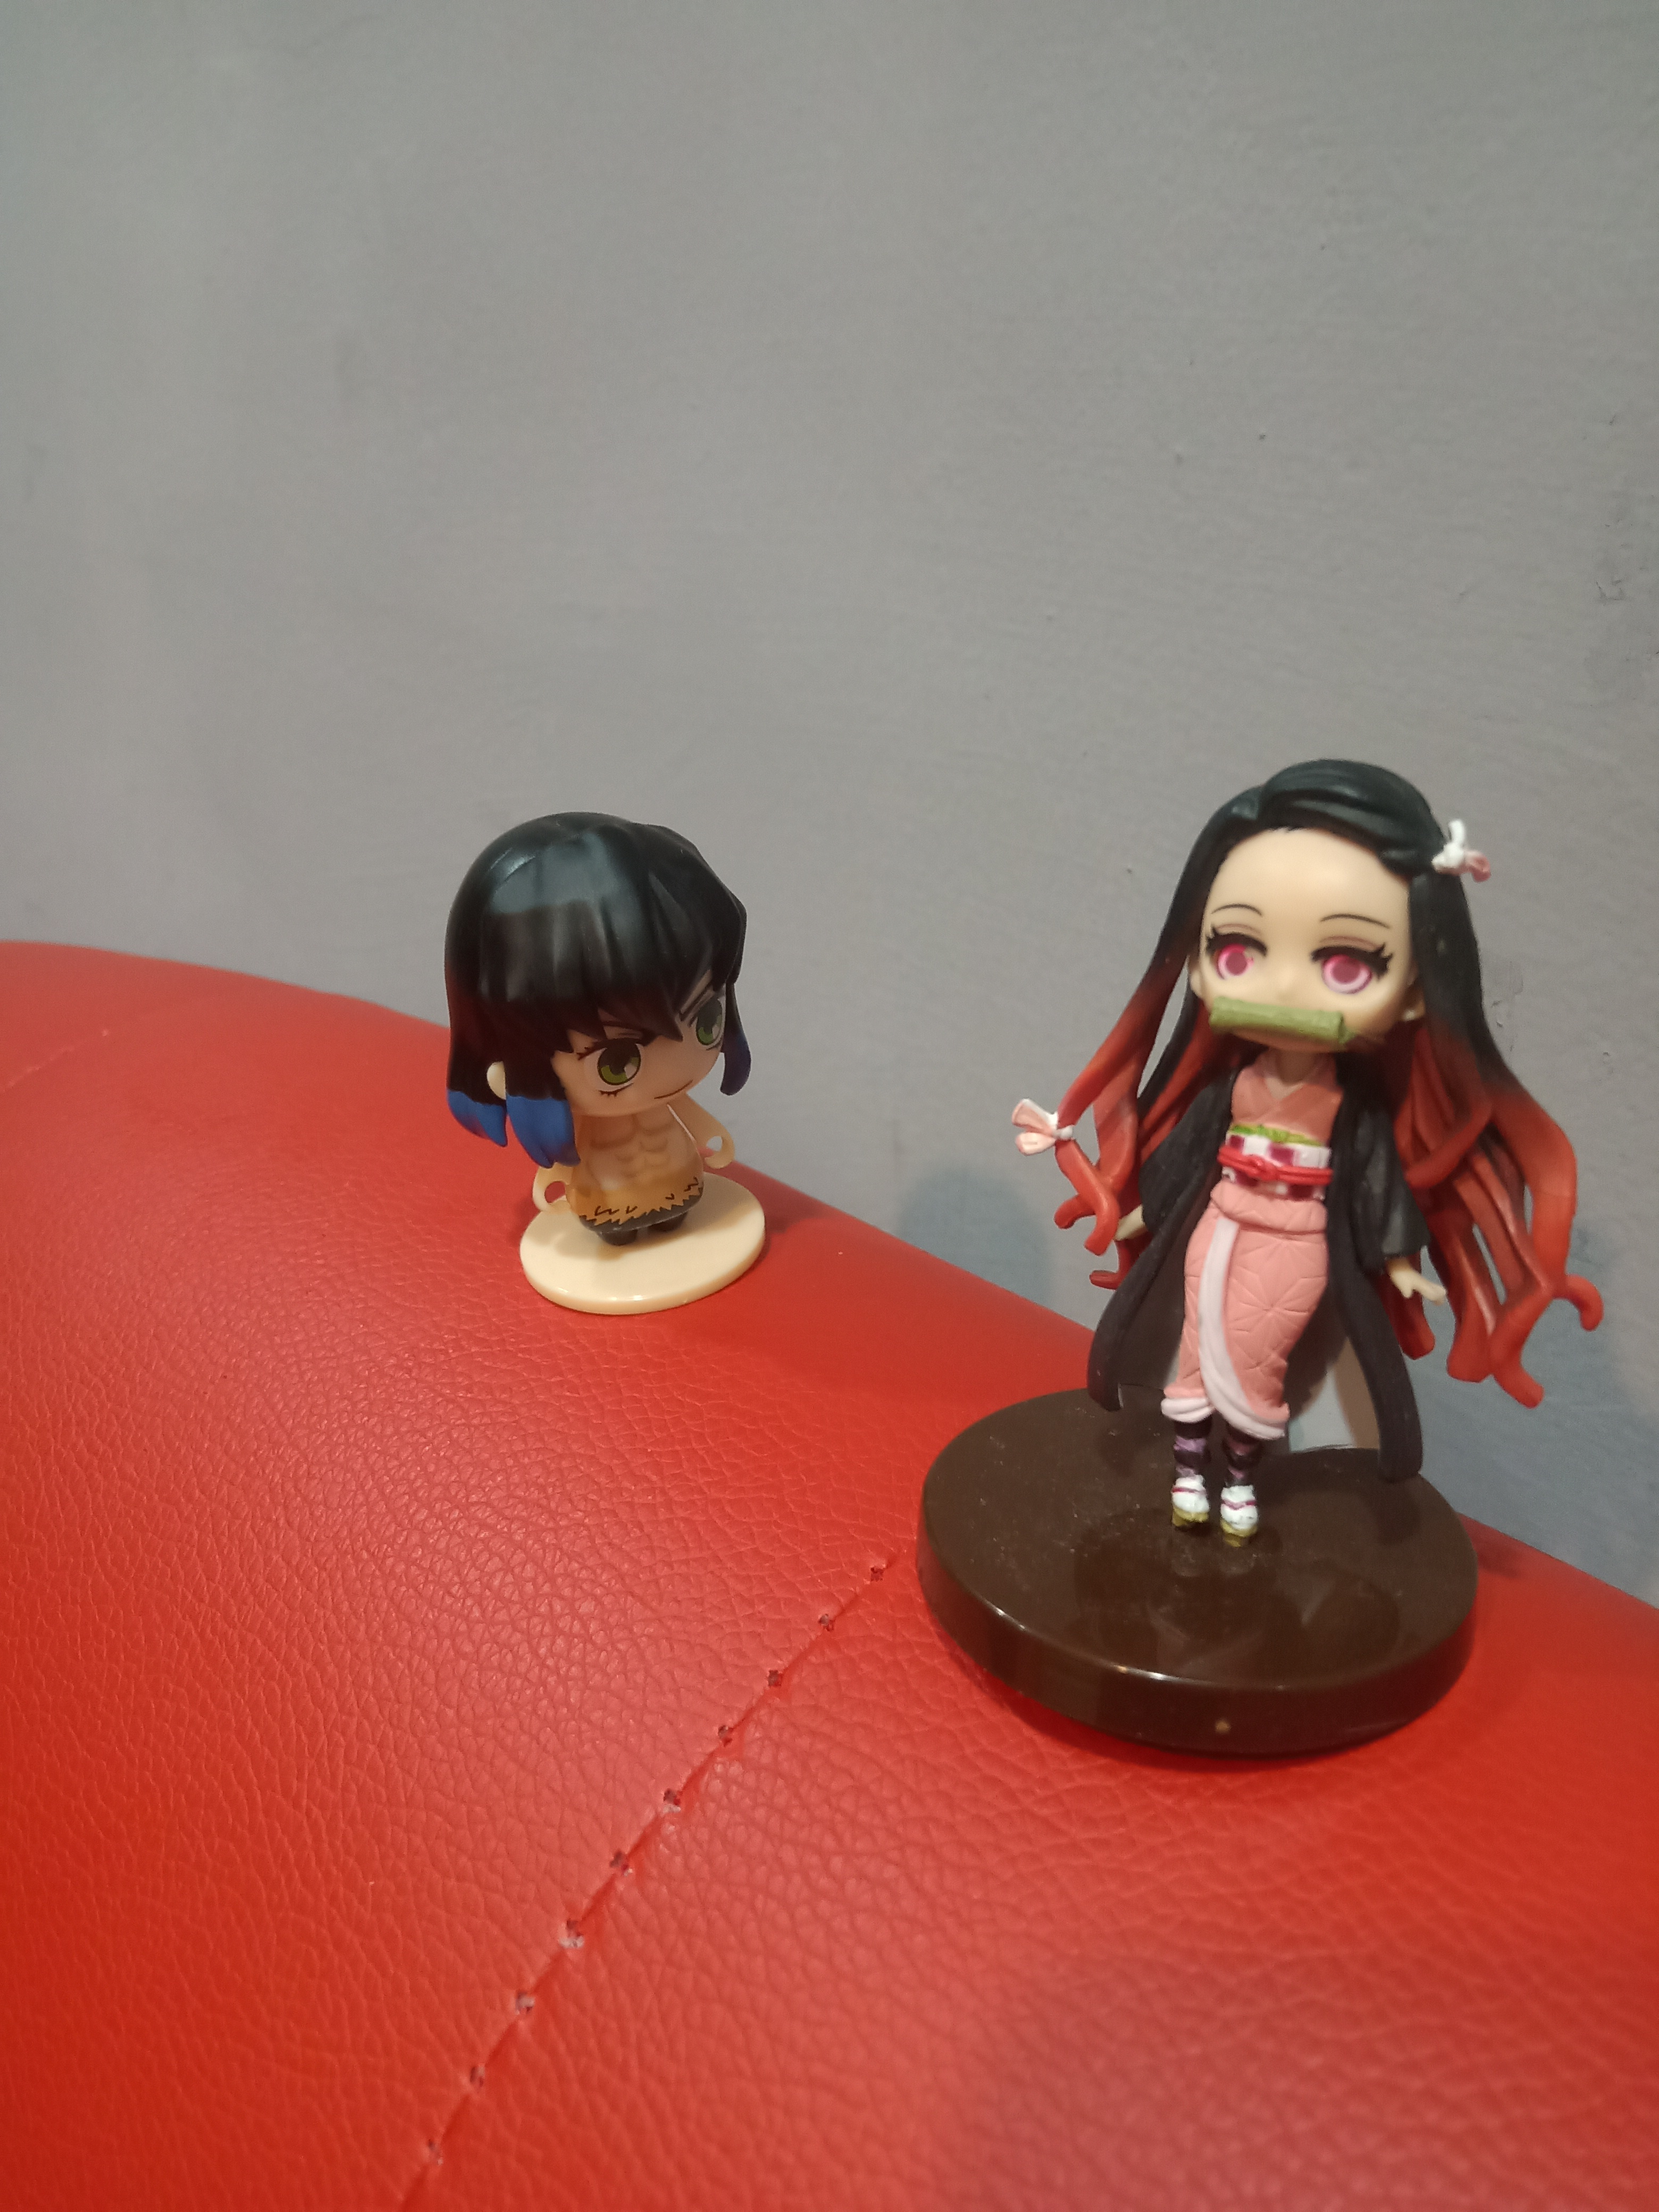Inosuke: (423, 801, 805, 1331)
Nezuko: (890, 740, 1621, 1785)
